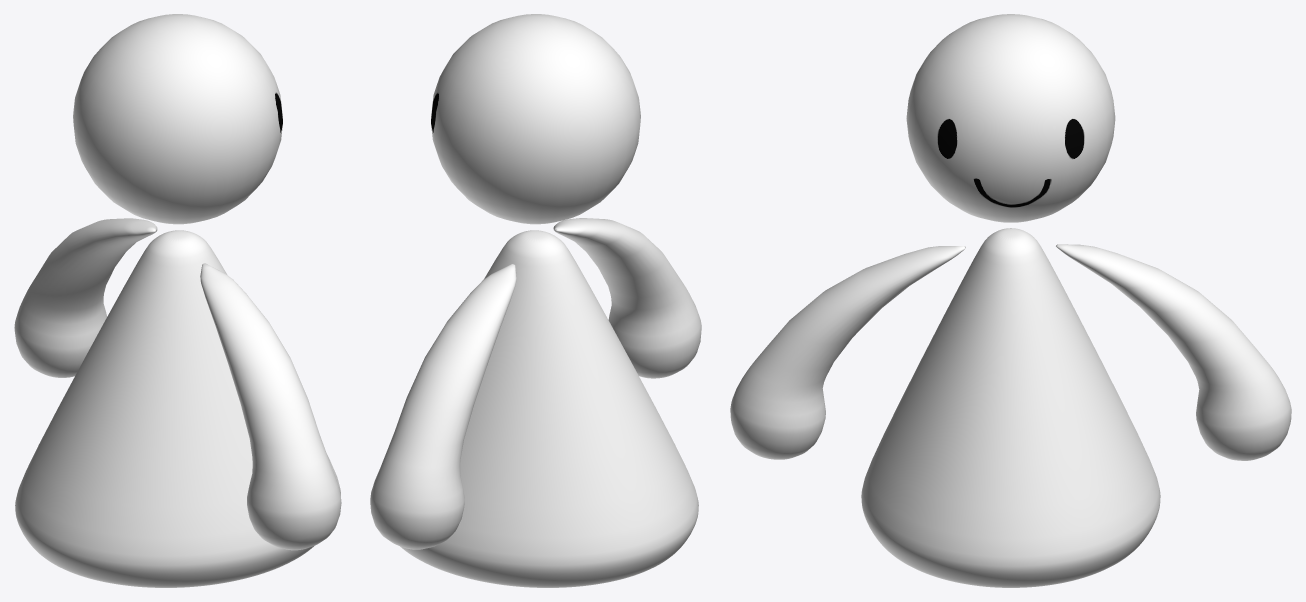
Rendered from meeple.glb.
The picture shows the model from 3 angles, left to right: view 1: azimuth 30°, elevation 25°; view 2: azimuth 150°, elevation 25°; view 3: azimuth 270°, elevation 25°; orthographic projection.
Visible parts, largest first — view 1: Cylinder, Sphere, Cylinder.002, Cylinder.001; view 2: Cylinder, Sphere, Cylinder.001, Cylinder.002; view 3: Cylinder, Sphere, Cylinder.001, Cylinder.002.
Part boxes in pixels (box(x1,y1,x2,y2)): Cylinder: box(15, 230, 340, 587); Sphere: box(73, 14, 282, 224); Cylinder.002: box(200, 263, 341, 550); Cylinder.001: box(14, 218, 157, 377); Cylinder: box(400, 230, 698, 587); Sphere: box(431, 14, 640, 224); Cylinder.001: box(370, 264, 516, 549); Cylinder.002: box(553, 218, 701, 378); Cylinder: box(861, 228, 1160, 587); Sphere: box(906, 14, 1115, 222); Cylinder.001: box(1056, 244, 1291, 460); Cylinder.002: box(730, 246, 965, 459).
Bounding box in the file's own units: 1.65 × 2.83 × 2.8.
4 materials, 1 textured.
